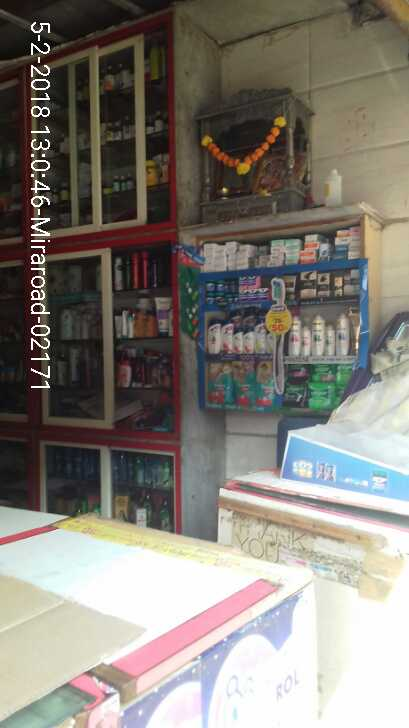beauty: (336, 309, 356, 359), (246, 321, 270, 362), (286, 316, 306, 354), (294, 272, 318, 303), (314, 268, 335, 301), (223, 315, 238, 360), (311, 318, 327, 354), (208, 317, 220, 354)
pharmacy: (227, 362, 254, 408), (255, 363, 278, 407), (204, 362, 227, 405), (233, 275, 267, 302), (201, 277, 231, 303), (303, 360, 335, 384), (307, 383, 331, 410)
